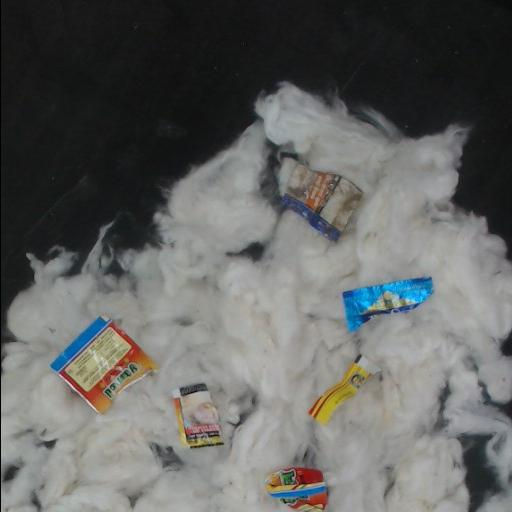conveyor belt: (1, 0, 512, 342)
cotton: (1, 82, 512, 511)
packet: (50, 318, 156, 412), (280, 158, 362, 240), (342, 279, 431, 331), (309, 354, 375, 423), (173, 384, 223, 448), (267, 467, 327, 511)
